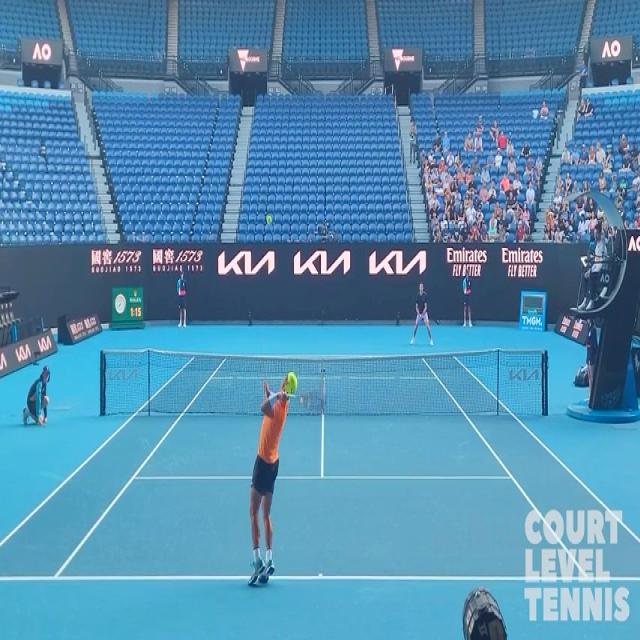serve_hit: (232, 324, 327, 596)
